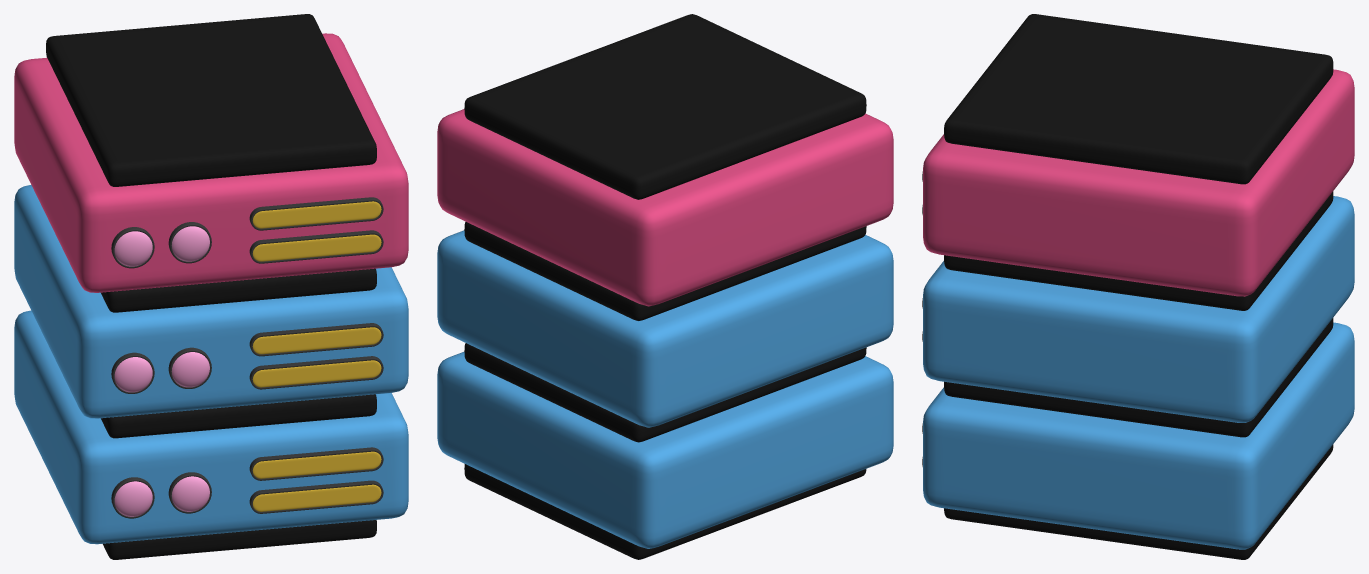
The model's file is server-stack.glb.
3 views of the same model, side by side, from view 1: azimuth 30°, elevation 25°; view 2: azimuth 150°, elevation 25°; view 3: azimuth 270°, elevation 25° (orthographic). The views are drawn at different scales.
Visible parts, largest first — view 1: Bezel_Cap, Unit_Top_Body, Unit_Bottom_Body, Unit_Middle_Body, Bezel_Divider_1, Bezel_Divider_2, Bezel_Base, Unit_Top_Slot_Top, Unit_Bottom_Slot_Top, Unit_Middle_Slot_Top, Unit_Bottom_Slot_Bottom, Unit_Top_Slot_Bottom (+7 smaller); view 2: Unit_Middle_Body, Unit_Top_Body, Unit_Bottom_Body, Bezel_Cap, Bezel_Divider_1, Bezel_Divider_2, Bezel_Base; view 3: Unit_Bottom_Body, Unit_Top_Body, Unit_Middle_Body, Bezel_Cap, Bezel_Divider_2, Bezel_Divider_1, Bezel_Base.
Part boxes in pixels (left/top/right/bottom): Bezel_Cap: left=46, top=14, right=376, bottom=186; Unit_Top_Body: left=14, top=33, right=408, bottom=292; Unit_Bottom_Body: left=14, top=310, right=408, bottom=544; Unit_Middle_Body: left=14, top=185, right=408, bottom=418; Bezel_Divider_1: left=101, top=394, right=376, bottom=438; Bezel_Divider_2: left=101, top=268, right=376, bottom=312; Bezel_Base: left=103, top=520, right=376, bottom=559; Unit_Top_Slot_Top: left=252, top=201, right=381, bottom=261; Unit_Bottom_Slot_Top: left=252, top=451, right=381, bottom=511; Unit_Middle_Slot_Top: left=252, top=327, right=381, bottom=387; Unit_Bottom_Slot_Bottom: left=249, top=447, right=383, bottom=513; Unit_Top_Slot_Bottom: left=249, top=197, right=383, bottom=263; Unit_Middle_Body: left=437, top=230, right=893, bottom=427; Unit_Top_Body: left=437, top=109, right=893, bottom=306; Unit_Bottom_Body: left=437, top=352, right=893, bottom=548; Bezel_Cap: left=464, top=14, right=866, bottom=199; Bezel_Divider_1: left=464, top=343, right=866, bottom=442; Bezel_Divider_2: left=464, top=222, right=866, bottom=320; Bezel_Base: left=464, top=464, right=866, bottom=559; Unit_Bottom_Body: left=923, top=322, right=1354, bottom=549; Unit_Top_Body: left=923, top=69, right=1354, bottom=296; Unit_Middle_Body: left=923, top=196, right=1354, bottom=422; Bezel_Cap: left=944, top=14, right=1333, bottom=184; Bezel_Divider_2: left=944, top=191, right=1333, bottom=310; Bezel_Divider_1: left=944, top=318, right=1333, bottom=437; Bezel_Base: left=944, top=444, right=1333, bottom=559.
Size of the model in its own units: 2.08 by 2.16 by 2.12.
